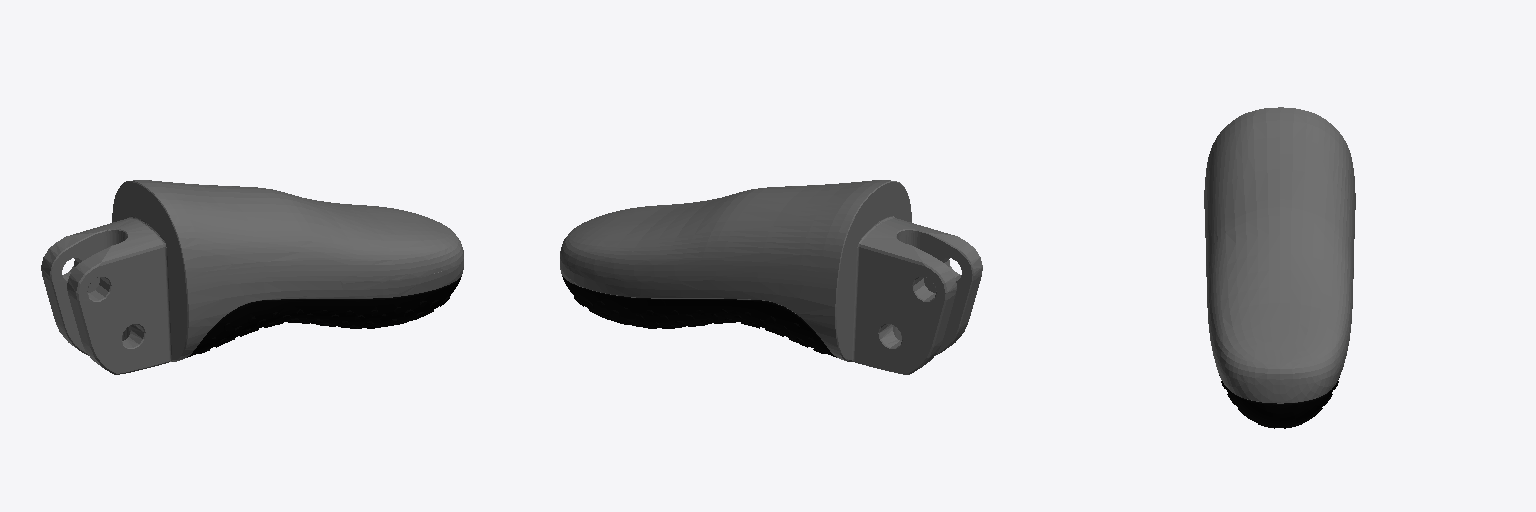
The model's file is L_pinky_intermediate_link.obj.
The picture shows the model from 3 angles: view 1: azimuth 30°, elevation 25°; view 2: azimuth 150°, elevation 25°; view 3: azimuth 270°, elevation 25°; orthographic projection.
Parts seen in each view (by area): view 1: L_pinky_intermediate_link; view 2: L_pinky_intermediate_link; view 3: L_pinky_intermediate_link.
Part boxes in pixels (bbox=[...]): L_pinky_intermediate_link: bbox=[41, 180, 463, 374]; L_pinky_intermediate_link: bbox=[560, 180, 982, 374]; L_pinky_intermediate_link: bbox=[1204, 107, 1355, 428].
Size of the model in its own units: 0.0437 by 0.0201 by 0.0145.